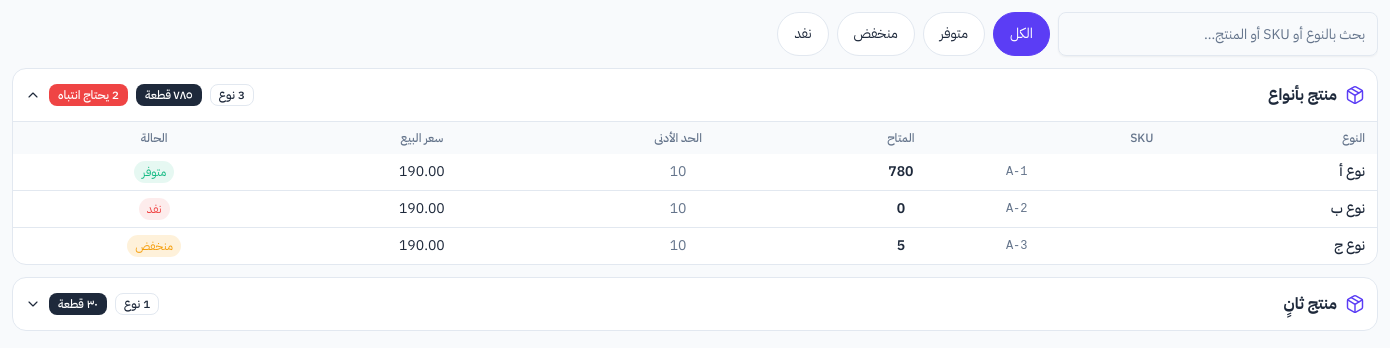
🔑 المخزون حسب المنتج › 🔑 الفلتر والبحث في الواجهة
This screenshot has width=1390, height=348.
Click the tab with test id "vg-filter-out" at (803, 34), box x1=777 y1=12 x2=829 y2=56
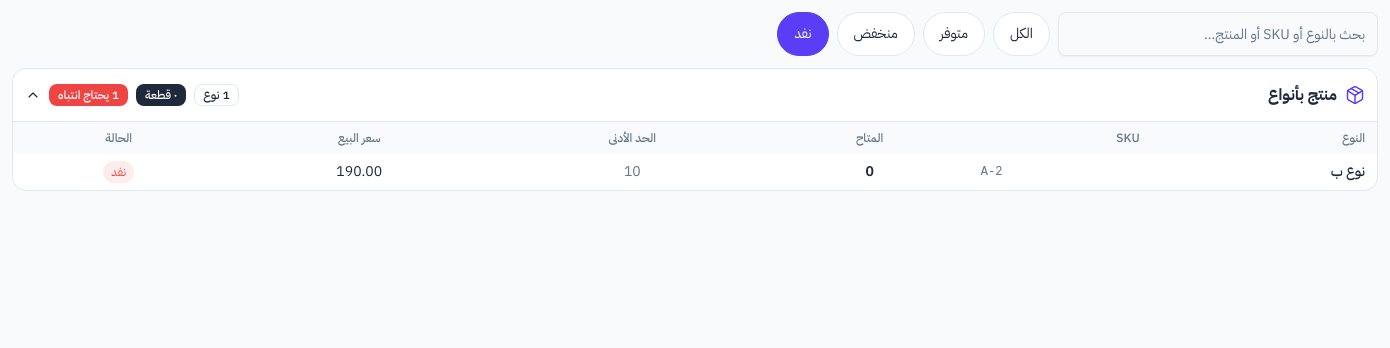
Check: the row with test id "vg-row-2" is shown, box x1=13 y1=154 x2=1377 y2=190
Check: the row with test id "vg-row-1" is gone
Click the tab with test id "vg-filter-all" at (1021, 34), box x1=993 y1=12 x2=1050 y2=56
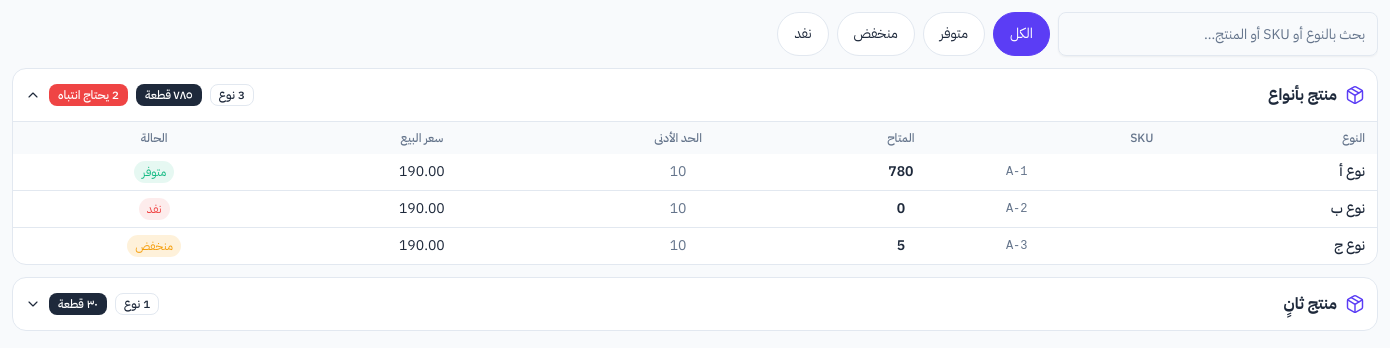
Type "نوع د" into the field with test id "vg-search" at (1218, 34), box x1=1058 y1=12 x2=1378 y2=56
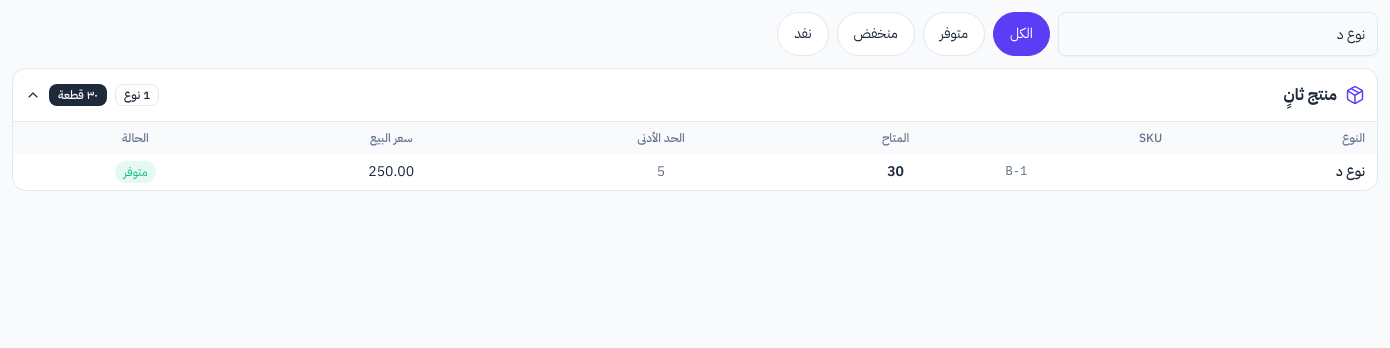
Check: the element with test id "vg-product-11" is shown, box x1=12 y1=68 x2=1378 y2=191
Check: the element with test id "vg-product-10" is gone
